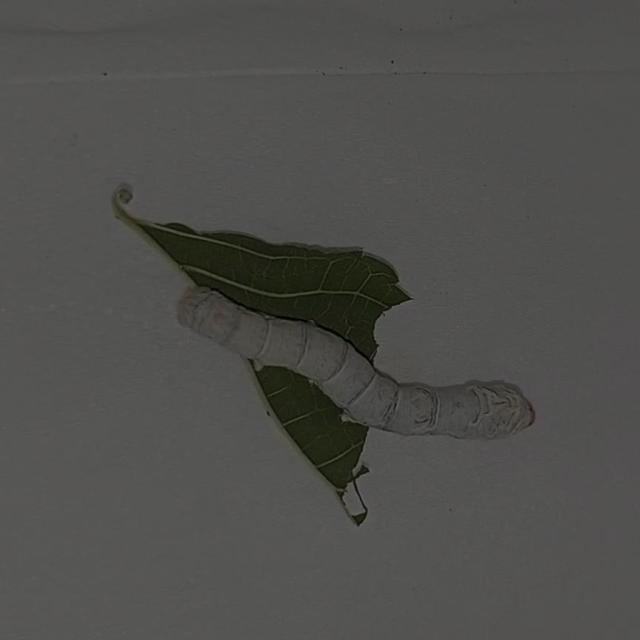Healthy: (172, 278, 547, 442)
